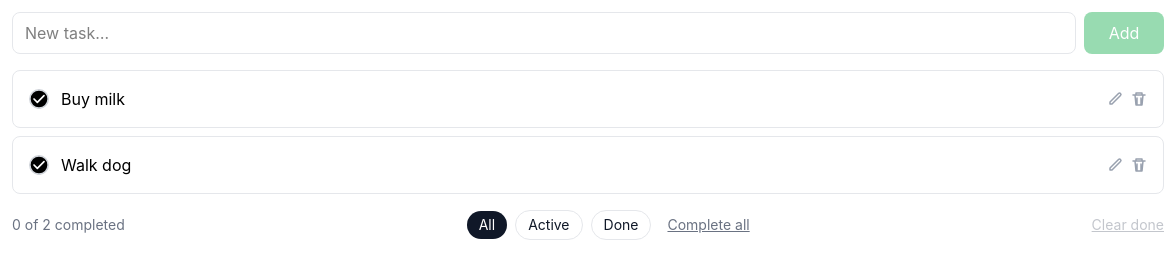
Scenario: bulk action error feedback › shows a toast and reverts only the failed task when Complete all partially fails
Expected: the text "Buy milk" is shown, left=61, top=89, right=125, bottom=109
Click the button "Complete all": (709, 225) left=668, top=215, right=750, bottom=235
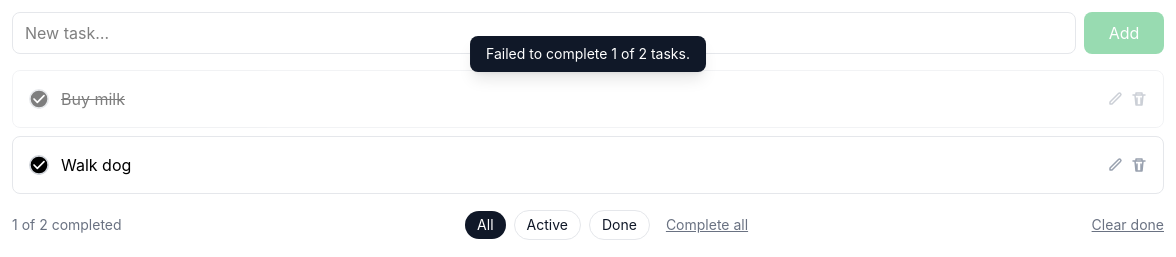
Expected: the button named "Mark complete" is shown, left=29, top=155, right=49, bottom=175
Result: the message reads "Failed to complete 1 of 2 tasks." at left=486, top=45, right=690, bottom=62
Result: the button named "Mark incomplete" is shown at left=29, top=89, right=49, bottom=109
